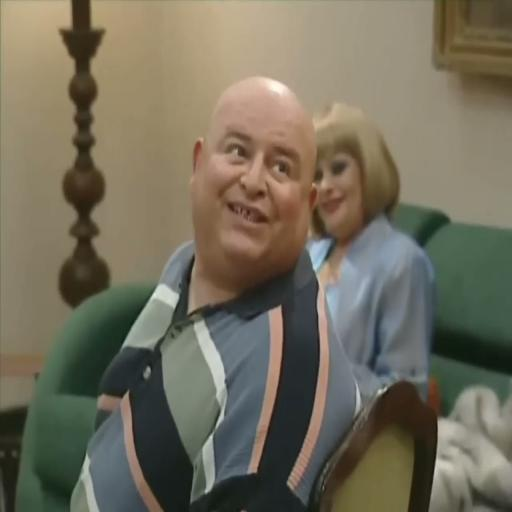sboui: (190, 79, 315, 273)
